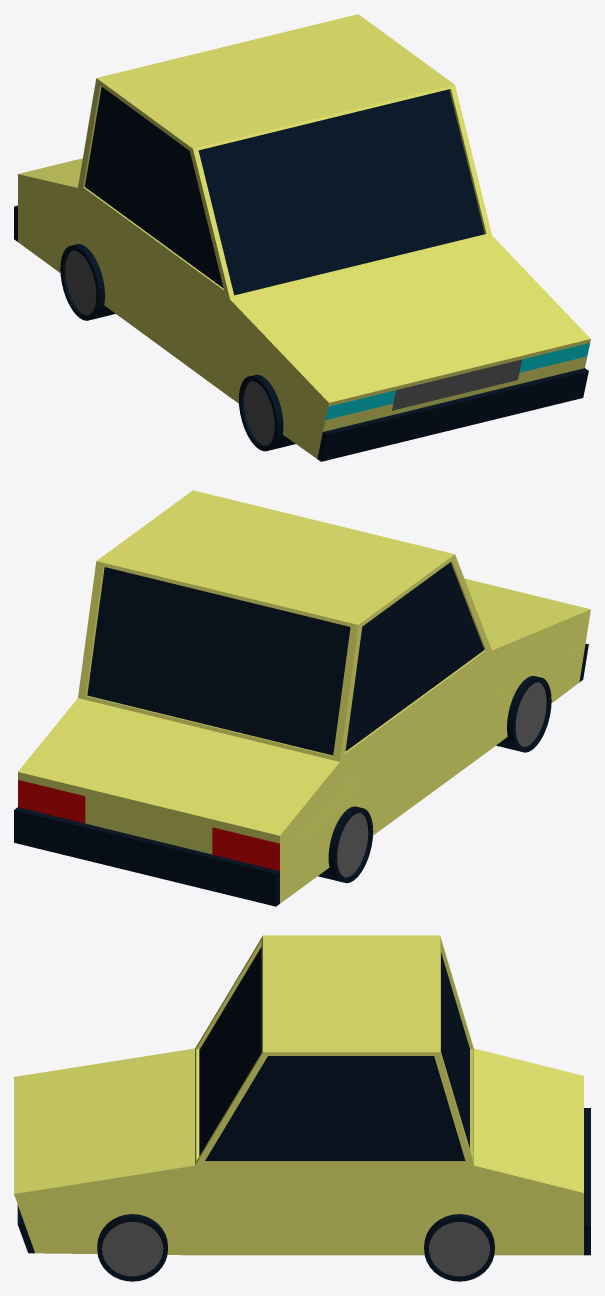
File: Car1.fbx
3 renders of one model, top to bottom at view 1: azimuth 30°, elevation 25°; view 2: azimuth 150°, elevation 25°; view 3: azimuth 270°, elevation 25°, orthographic. The views are drawn at different scales.
Visible parts, largest first — view 1: Car1; view 2: Car1; view 3: Car1.
Part boxes in pixels (left/top/right/bottom): Car1: left=14, top=14, right=590, bottom=461; Car1: left=14, top=490, right=590, bottom=906; Car1: left=14, top=935, right=590, bottom=1281.
Size of the model in its own units: 274 by 234 by 542.
